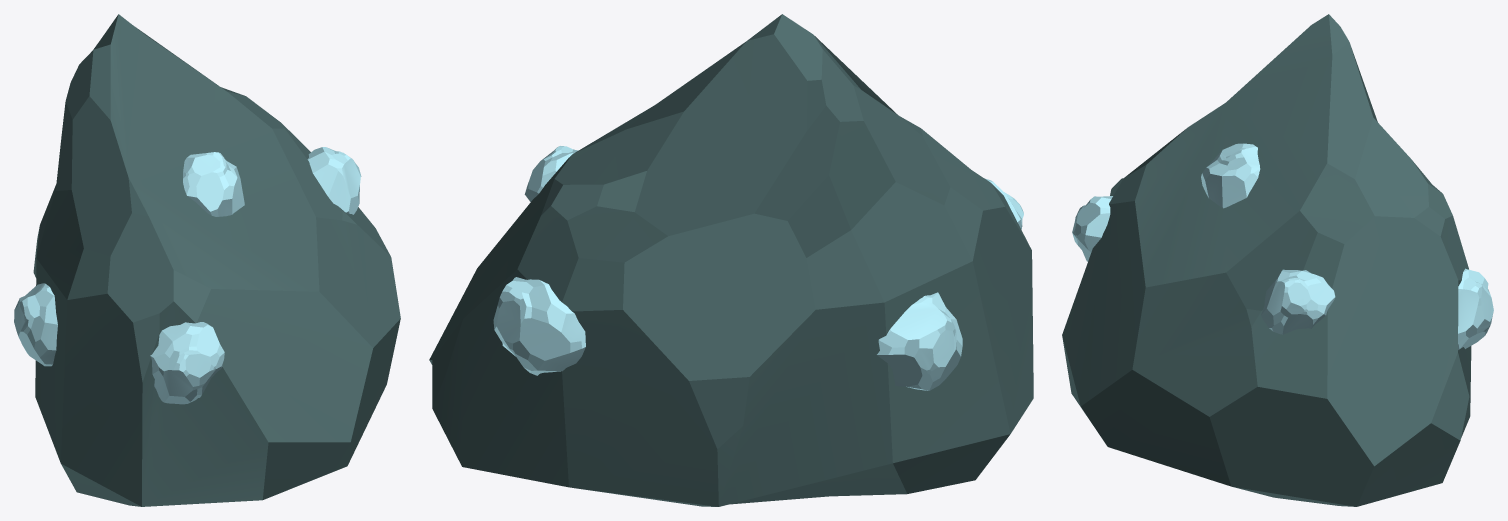
File: Diamond5.fbx
The picture shows the model from 3 angles, left to right: view 1: azimuth 30°, elevation 25°; view 2: azimuth 150°, elevation 25°; view 3: azimuth 270°, elevation 25°; orthographic projection. The views are drawn at different scales.
Visible parts, largest first — view 1: Rock4, Nodes.004; view 2: Rock4, Nodes.004; view 3: Rock4, Nodes.004.
Part boxes in pixels (<box>): Rock4: <box>33,14,400,506</box>; Nodes.004: <box>14,147,361,404</box>; Rock4: <box>429,14,1033,506</box>; Nodes.004: <box>493,146,1023,390</box>; Rock4: <box>1062,14,1471,506</box>; Nodes.004: <box>1072,143,1493,349</box>.
Size of the model in its own units: 137 by 139 by 135.
